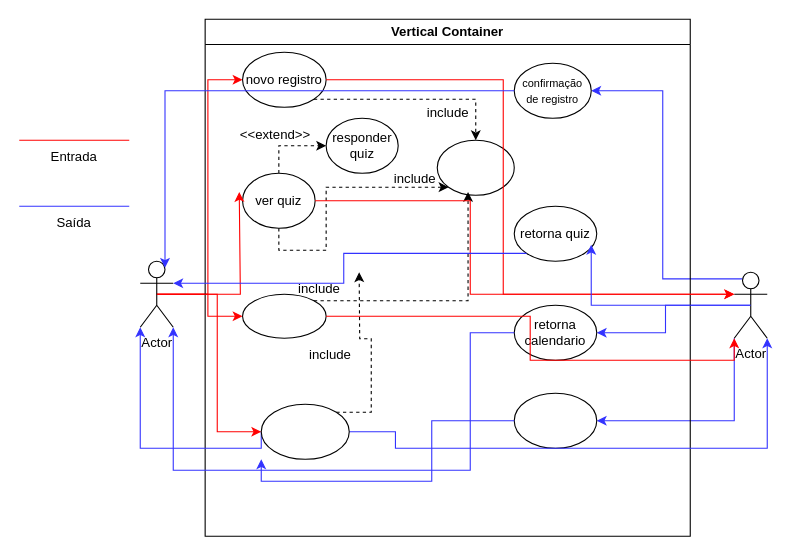
Some shapes in this 795 by 556 pixel diagram are drawn without their labels. Each missing label, with the centre of its shape:
"confirma o login" goes at point 555,420.
"login" goes at point 304,431.
"validar usuario" goes at point 475,167.
"ver calendario" goes at point 283,315.
